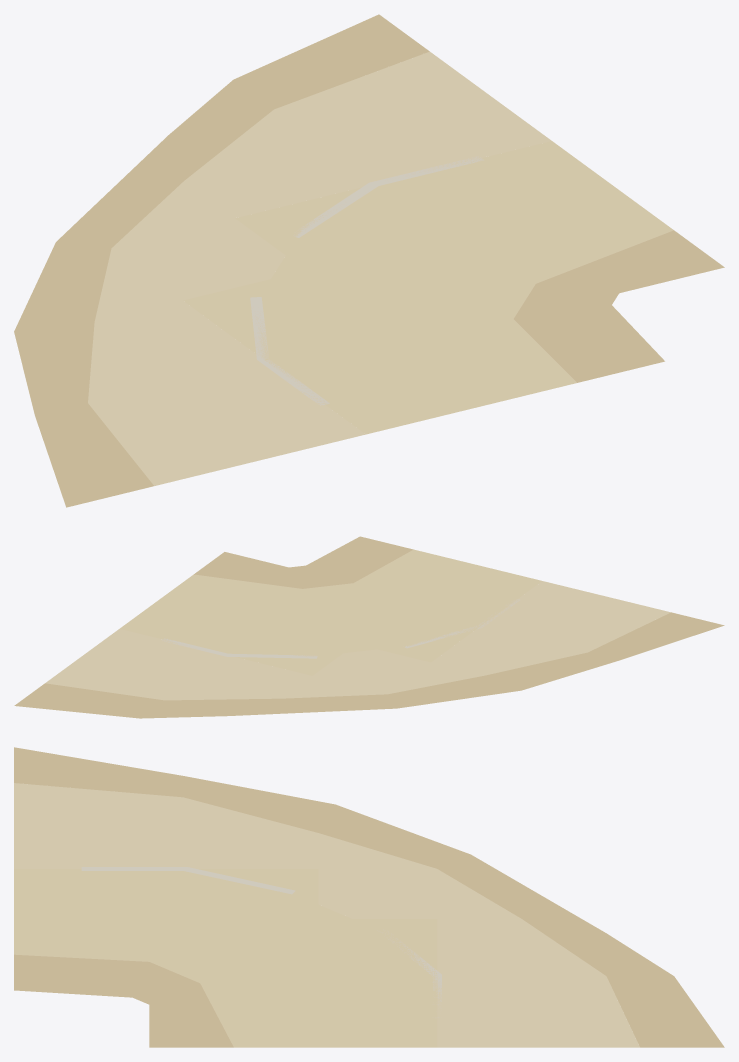
The model's file is drodt.glb.
3 views of the same model, one above another, from view 1: azimuth 30°, elevation 25°; view 2: azimuth 150°, elevation 25°; view 3: azimuth 270°, elevation 25° (orthographic). The views are drawn at different scales.
Parts seen in each view (by area): view 1: drodt; view 2: drodt; view 3: drodt.
Part boxes in pixels (x1,y1,x2,y2): drodt: (14, 14, 724, 507); drodt: (14, 536, 724, 718); drodt: (14, 747, 724, 1047).
Size of the model in its own units: 29.4 by 6.53e-15 by 29.4.
